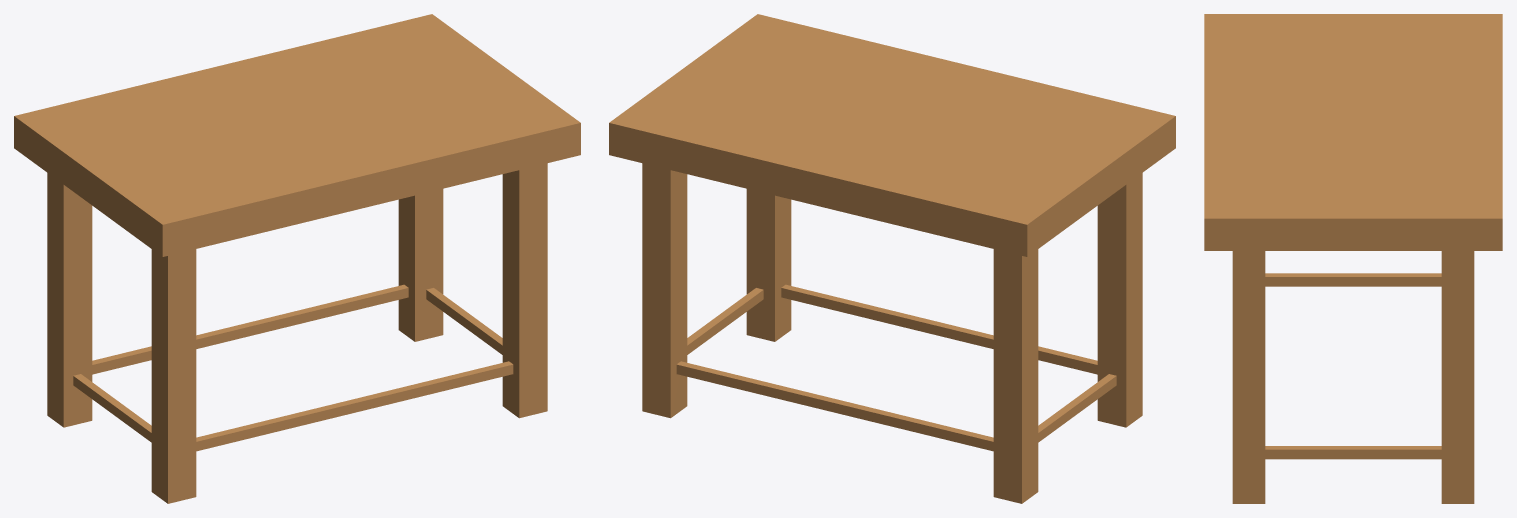
Rendered from MesaConLampara.obj.
The picture shows the model from 3 angles, left to right: view 1: azimuth 30°, elevation 25°; view 2: azimuth 150°, elevation 25°; view 3: azimuth 270°, elevation 25°; orthographic projection.
Parts seen in each view (by area): view 1: Cube.027_Cube.013; view 2: Cube.027_Cube.013; view 3: Cube.027_Cube.013.
Boxes of the visible parts, left/top/right/bottom form: Cube.027_Cube.013: left=14, top=14, right=580, bottom=503; Cube.027_Cube.013: left=609, top=14, right=1175, bottom=503; Cube.027_Cube.013: left=1204, top=14, right=1502, bottom=503.
Size of the model in its own units: 13.02 by 8.75 by 8.02.
Materials: 1 (1 with a texture image).
